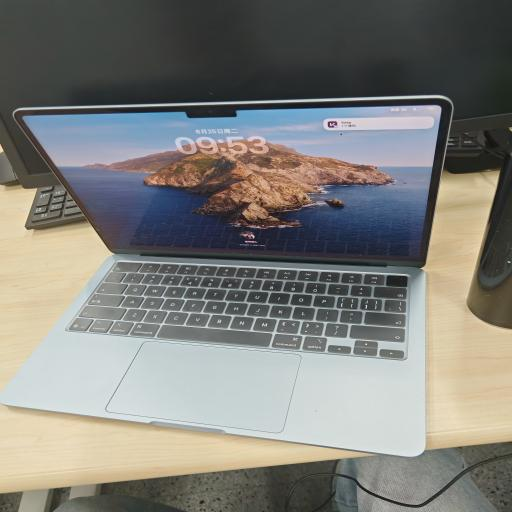laptop: (0, 96, 452, 456), (48, 196, 60, 210), (77, 248, 86, 250), (49, 210, 51, 211), (50, 192, 50, 194)
